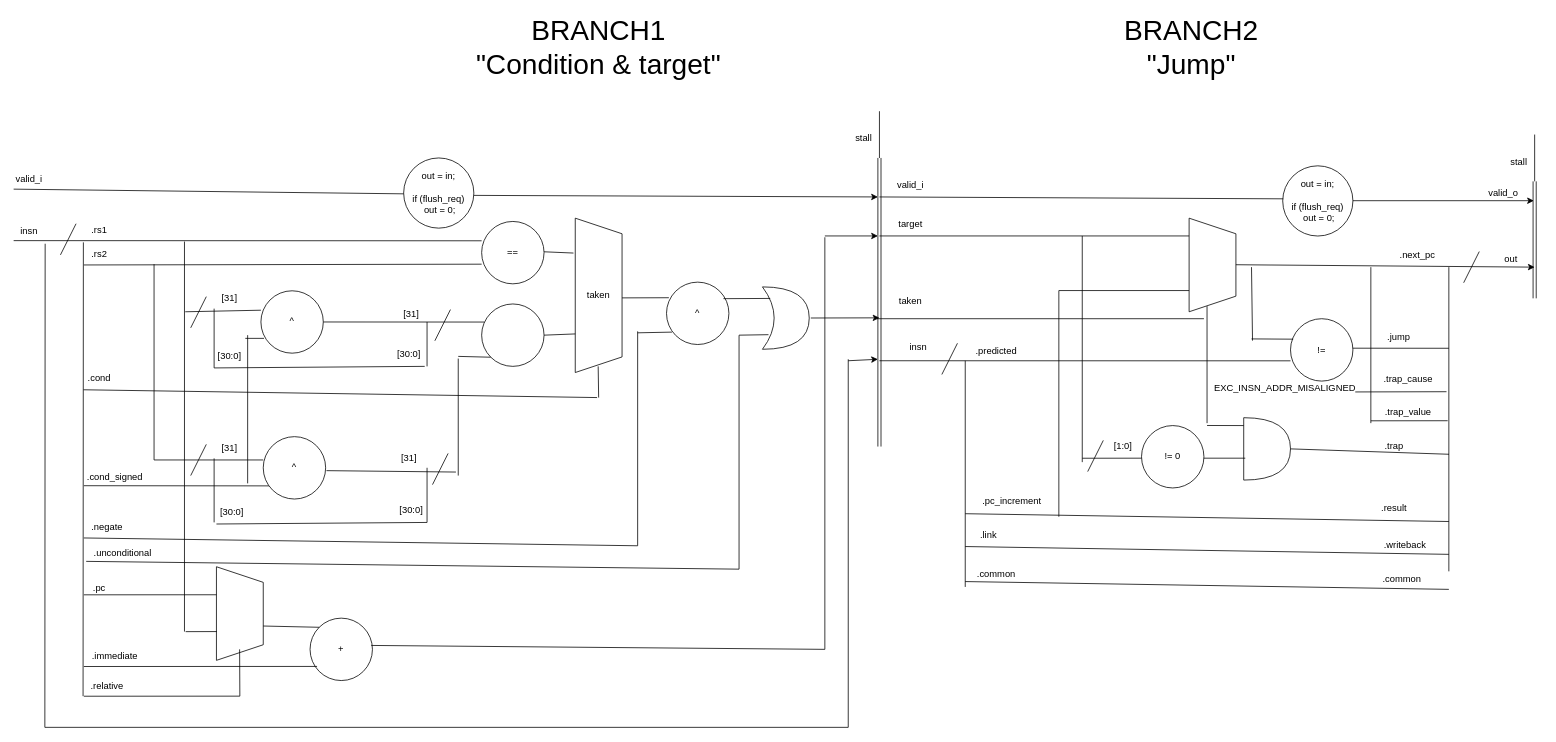
Some shapes in this 1556 by 742 pixel diagram are drawn without their labels. Here are the shapes that lost their labels. From the top down, the box of each, then its label:
(1188, 217, 1236, 312): final_pc
(481, 303, 544, 366): < (unsigned)
(216, 566, 263, 660): base
